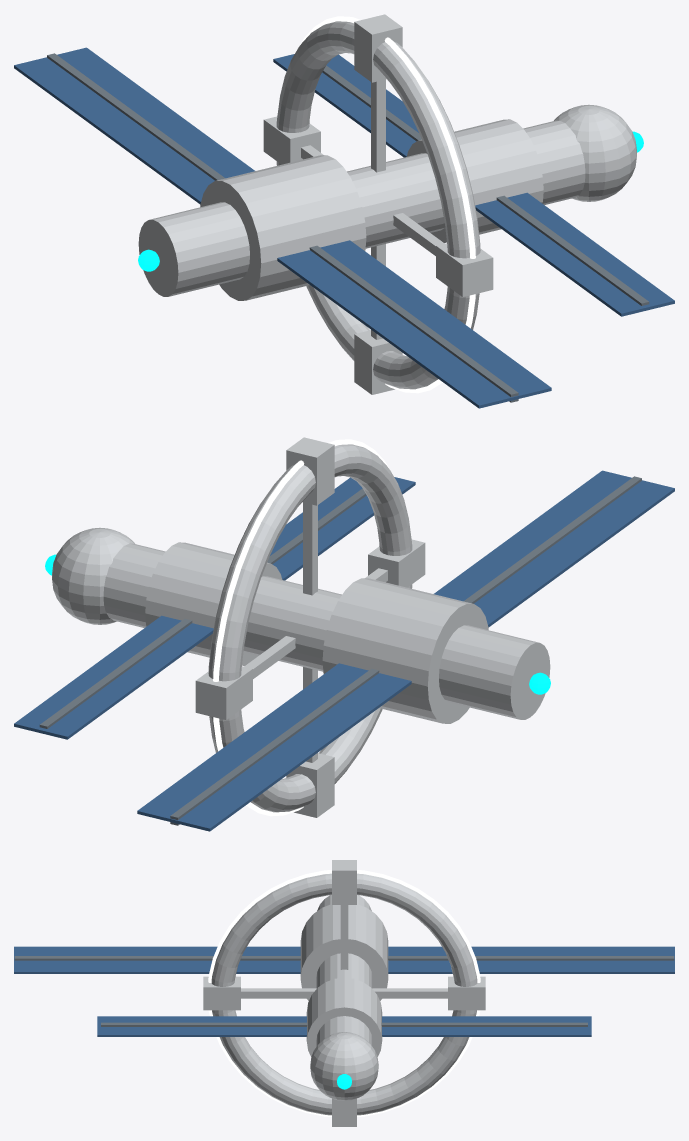
Rendered from mars-orbital-hub.glb.
The picture shows the model from 3 angles, top to bottom: view 1: azimuth 30°, elevation 25°; view 2: azimuth 150°, elevation 25°; view 3: azimuth 270°, elevation 25°; orthographic projection. The views are drawn at different scales.
Visible parts, largest first — view 1: station_body, rotor_ring; view 2: station_body, rotor_ring; view 3: station_body, rotor_ring.
Boxes of the visible parts, bbox=[...] form: station_body: bbox=[14, 47, 674, 408]; rotor_ring: bbox=[263, 14, 493, 394]; station_body: bbox=[14, 470, 674, 831]; rotor_ring: bbox=[195, 437, 425, 817]; station_body: bbox=[14, 895, 674, 1100]; rotor_ring: bbox=[203, 860, 485, 1126].
Bounding box in the file's own units: 2.63 × 1.8 × 4.21.
